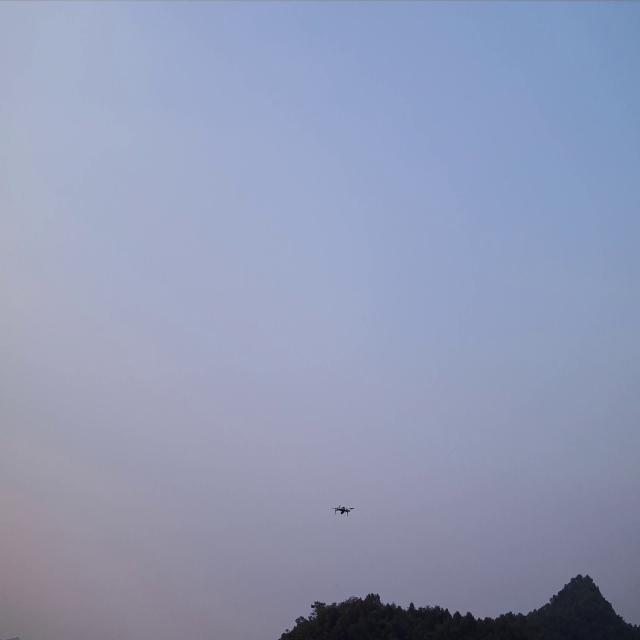UAV: (330, 503, 355, 518)
